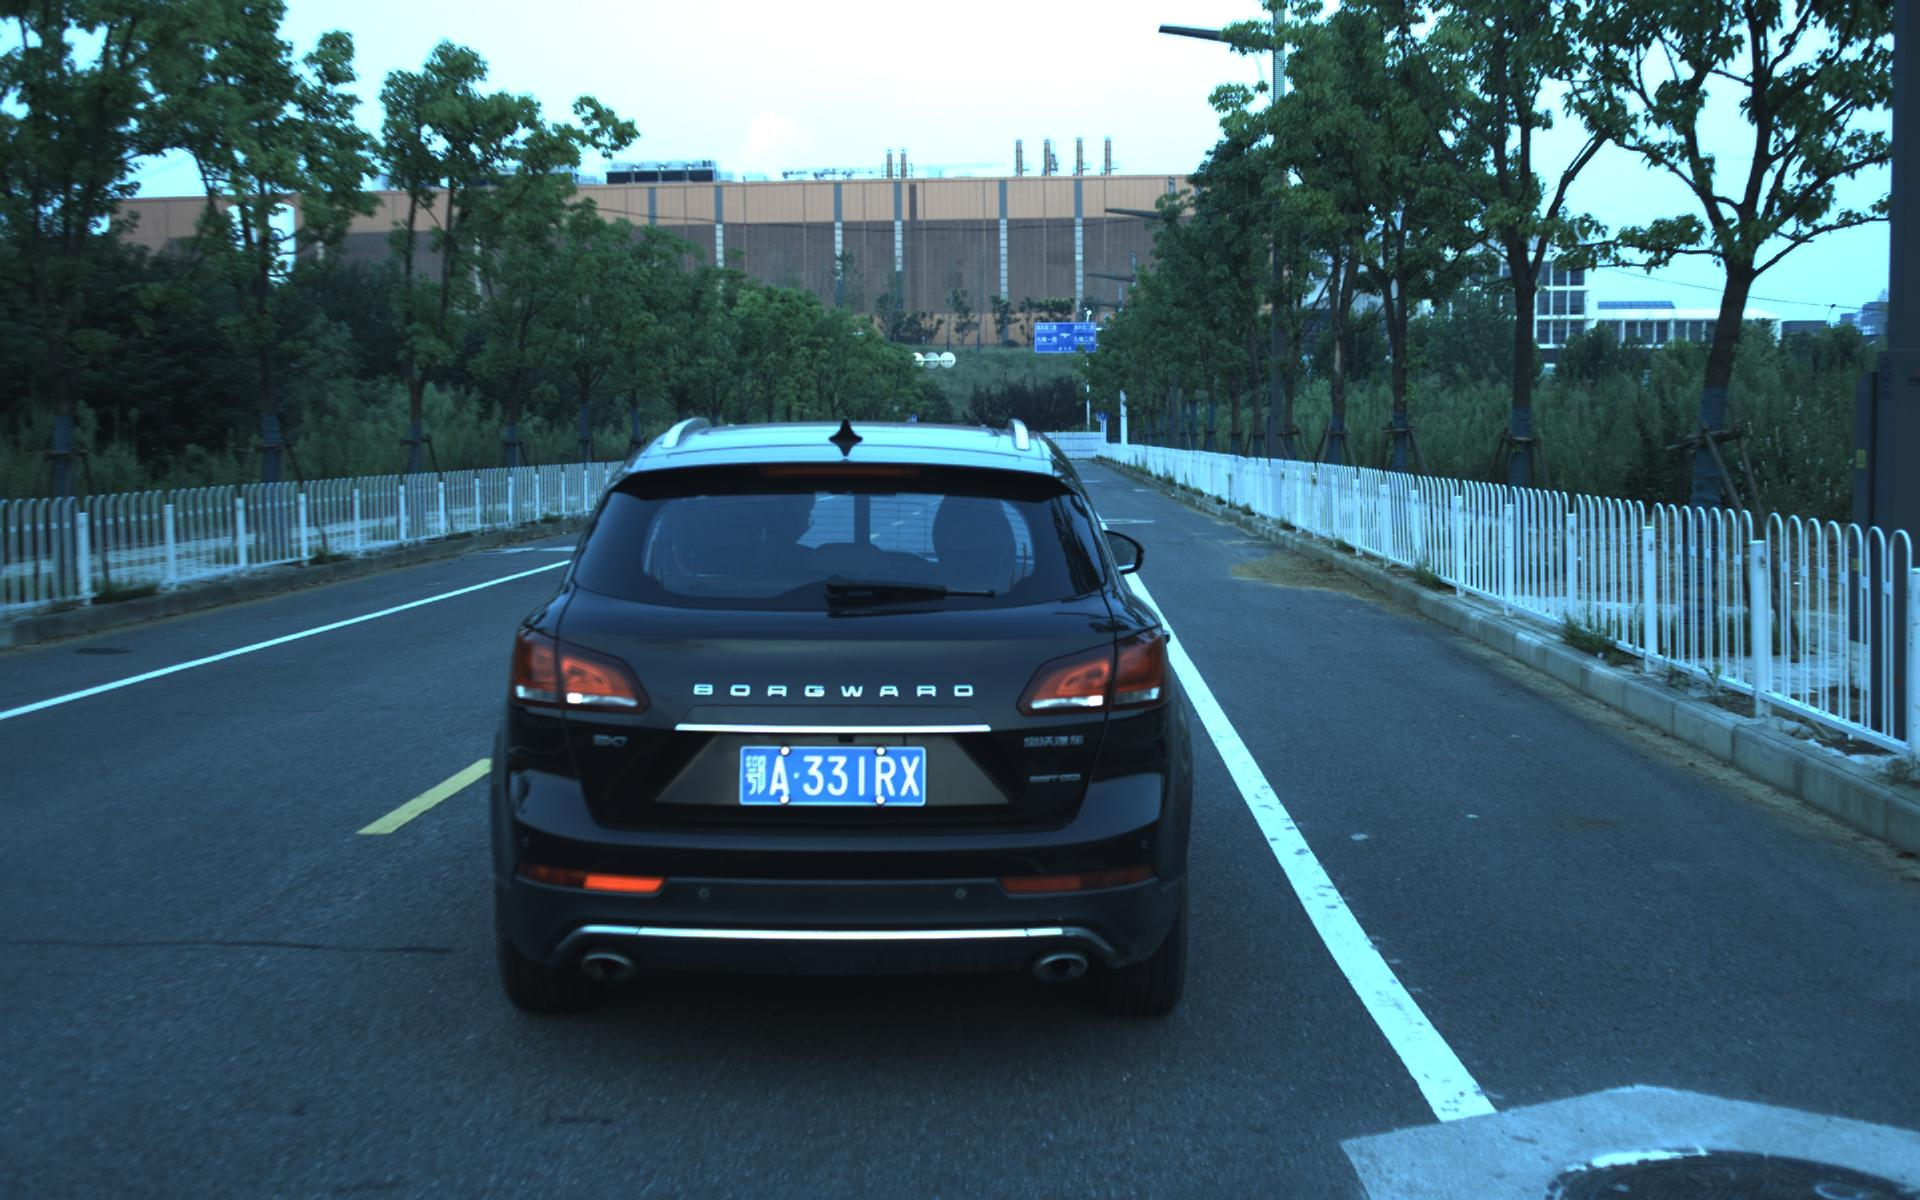Car: (498, 405, 1183, 1042)
